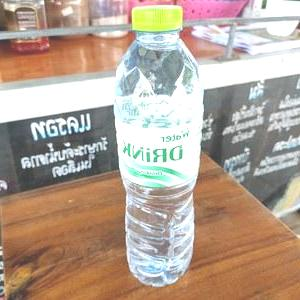bottle: (108, 3, 207, 290)
